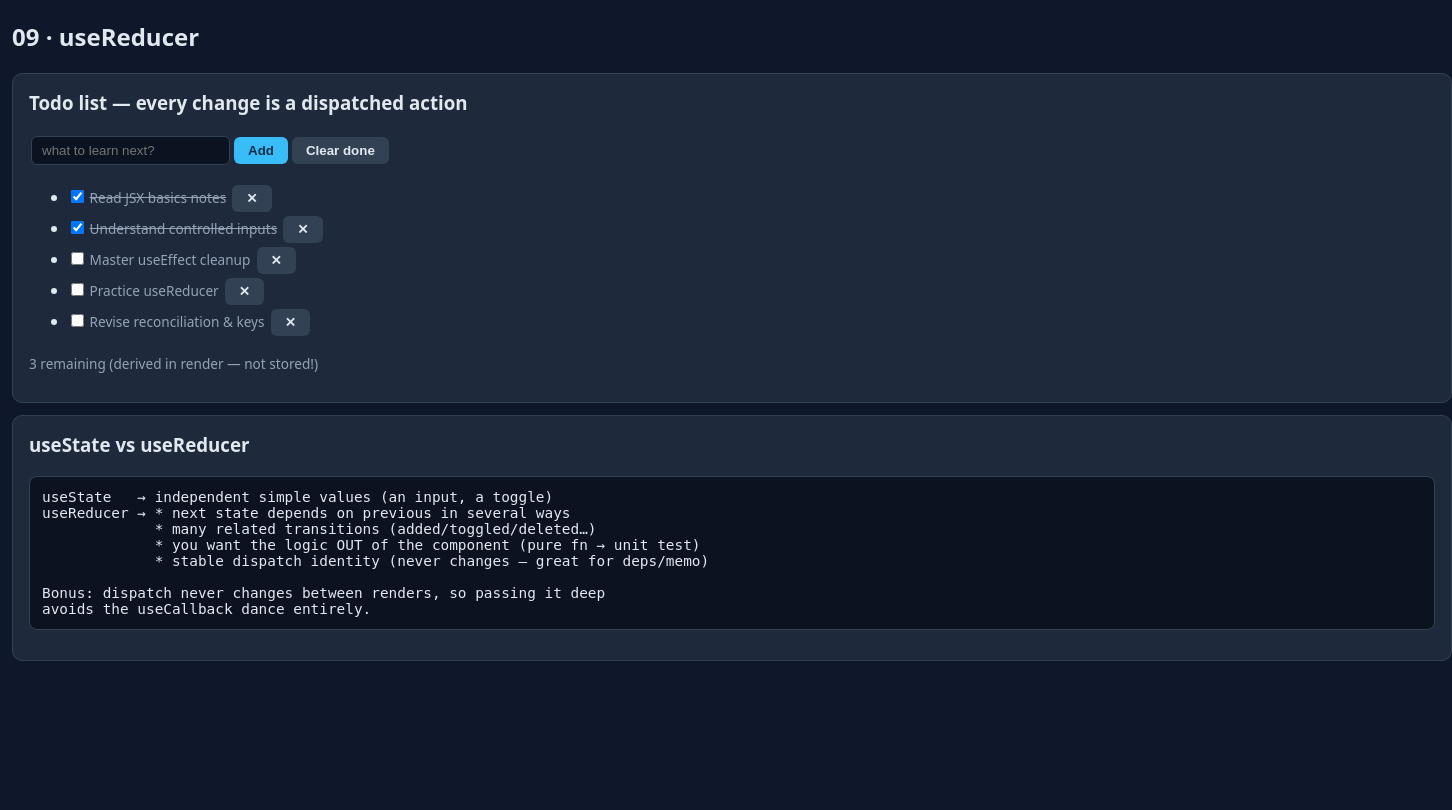
Test case: ReducerDemo todo list (concept 09) › clear done removes completed todos
Click the button "Clear done" at [340, 150], box [292,136,389,164]
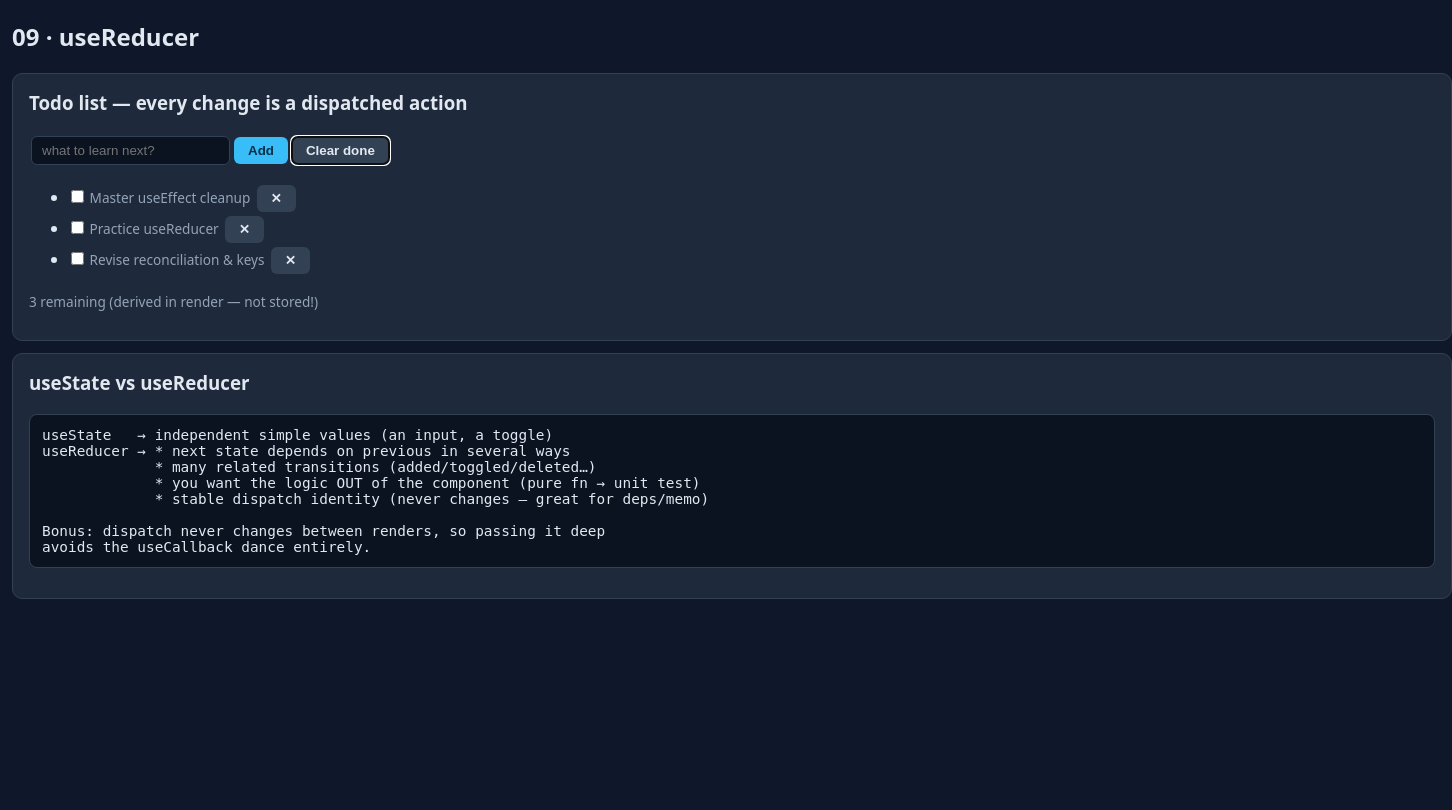
expect the text "Master useEffect cleanup" is shown: met, box [90,188,250,206]
expect the text "Read JSX basics notes" is gone: met
